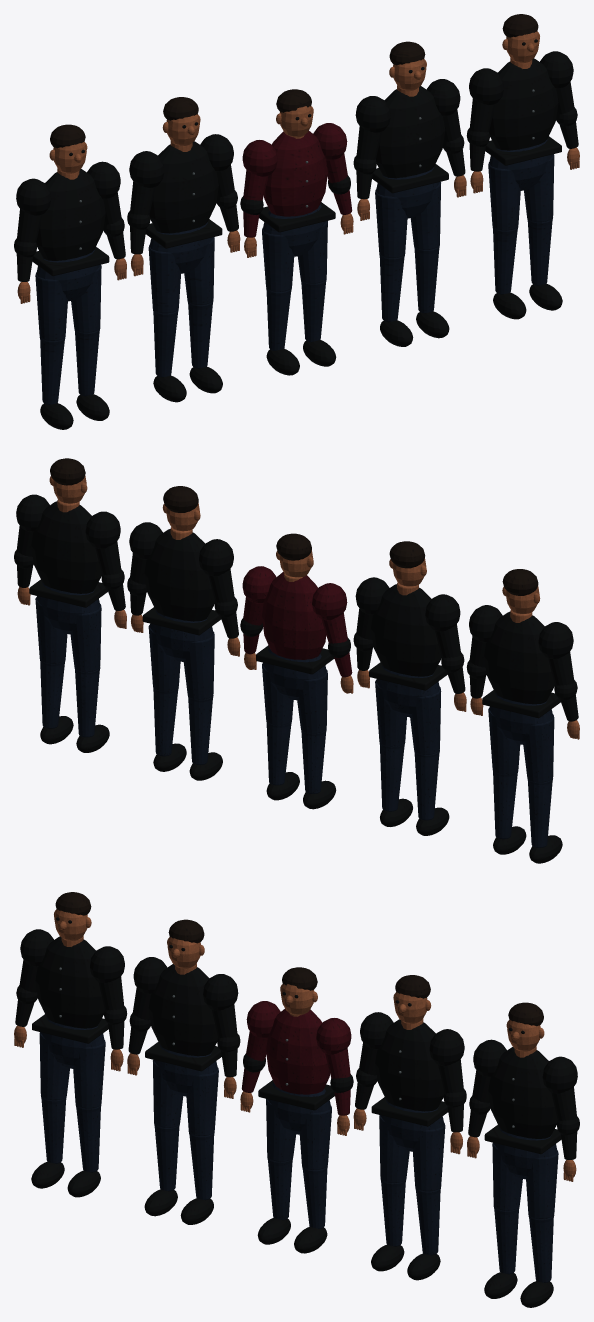
Rendered from PROP-CF476531CEB6_lod0.glb.
The picture shows the model from 3 angles, top to bottom: view 1: azimuth 30°, elevation 25°; view 2: azimuth 150°, elevation 25°; view 3: azimuth 330°, elevation 25°; orthographic projection.
Visible parts, largest first — view 1: torso.009, thigh.009, calf.009, shoulder.009, shoe.009, pelvis.009, belt.009, upper_arm.009, torso.010, head.009, hair_cap.009, elbow_protection.005 (+7 smaller); view 2: torso.009, thigh.009, calf.009, shoulder.009, pelvis.009, shoe.009, belt.009, torso.010, upper_arm.009, hair_cap.009, elbow_protection.005, head.009 (+7 smaller); view 3: torso.009, thigh.009, calf.009, shoulder.009, shoe.009, pelvis.009, belt.009, upper_arm.009, torso.010, head.009, hair_cap.009, elbow_protection.005 (+7 smaller).
Part boxes in pixels (x1,y1,x2,y2): torso.009: (36, 58, 558, 260); thigh.009: (35, 154, 554, 340); calf.009: (40, 221, 552, 404); shoulder.009: (16, 51, 573, 215); shoe.009: (40, 283, 562, 429); pelvis.009: (36, 139, 552, 301); belt.009: (32, 136, 561, 276); upper_arm.009: (17, 81, 574, 242); torso.010: (264, 131, 327, 216); head.009: (53, 31, 539, 173); hair_cap.009: (50, 14, 538, 148); elbow_protection.005: (14, 107, 577, 257); torso.009: (31, 501, 554, 704); thigh.009: (35, 597, 554, 782); calf.009: (40, 662, 552, 847); shoulder.009: (16, 494, 573, 658); pelvis.009: (36, 582, 552, 744); shoe.009: (40, 716, 562, 863); belt.009: (29, 579, 560, 718); torso.010: (261, 572, 326, 659); upper_arm.009: (17, 525, 574, 685); hair_cap.009: (50, 458, 538, 595); elbow_protection.005: (14, 549, 577, 700); head.009: (52, 475, 539, 613); torso.009: (35, 936, 557, 1138); thigh.009: (39, 1032, 558, 1218); calf.009: (41, 1099, 553, 1282); shoulder.009: (20, 929, 577, 1093); shoe.009: (31, 1161, 553, 1307); pelvis.009: (41, 1017, 557, 1179); belt.009: (32, 1014, 561, 1154); upper_arm.009: (19, 959, 576, 1120); torso.010: (266, 1009, 329, 1094); head.009: (54, 909, 540, 1051); hair_cap.009: (55, 892, 543, 1026); elbow_protection.005: (16, 985, 579, 1135).
Size of the model in its own units: 3.72 by 1.84 by 0.3561.
6 materials, 6 textured.
